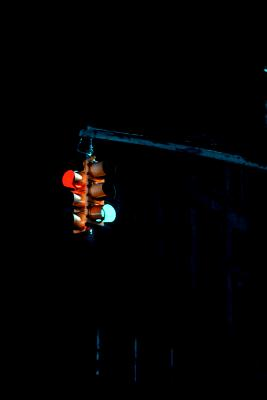International Road Signal Light: (62, 146, 115, 236)
